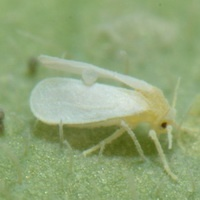insect: (30, 55, 177, 181)
